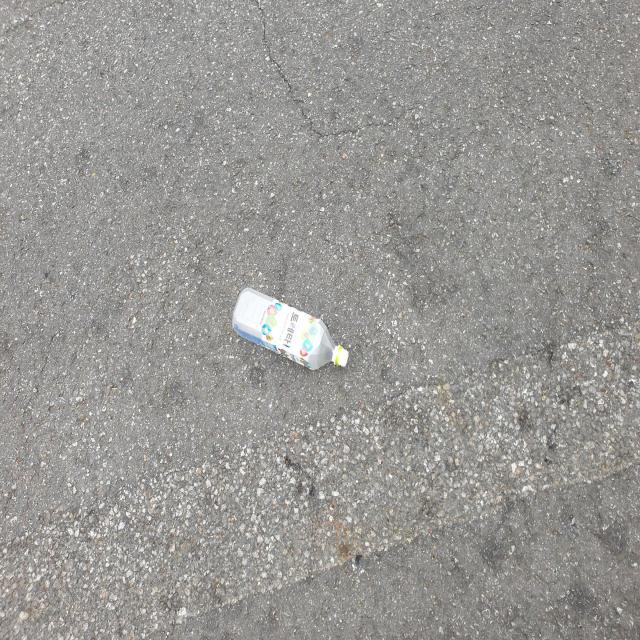plastic: (232, 288, 349, 370)
